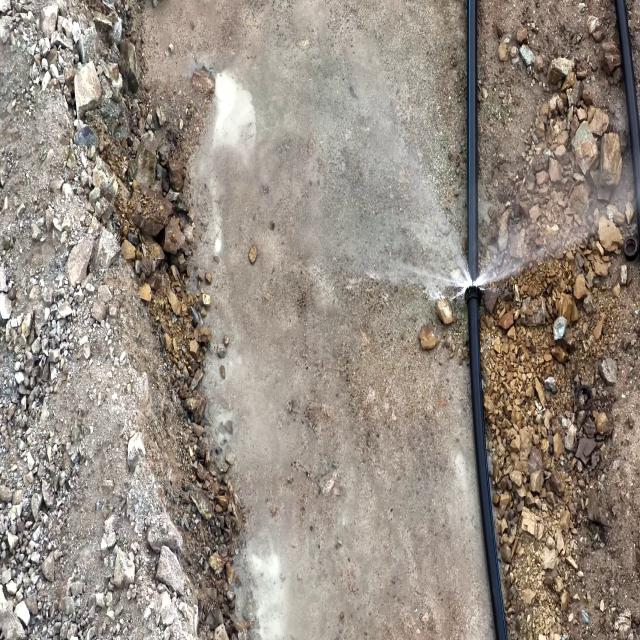leak: (378, 156, 560, 307)
